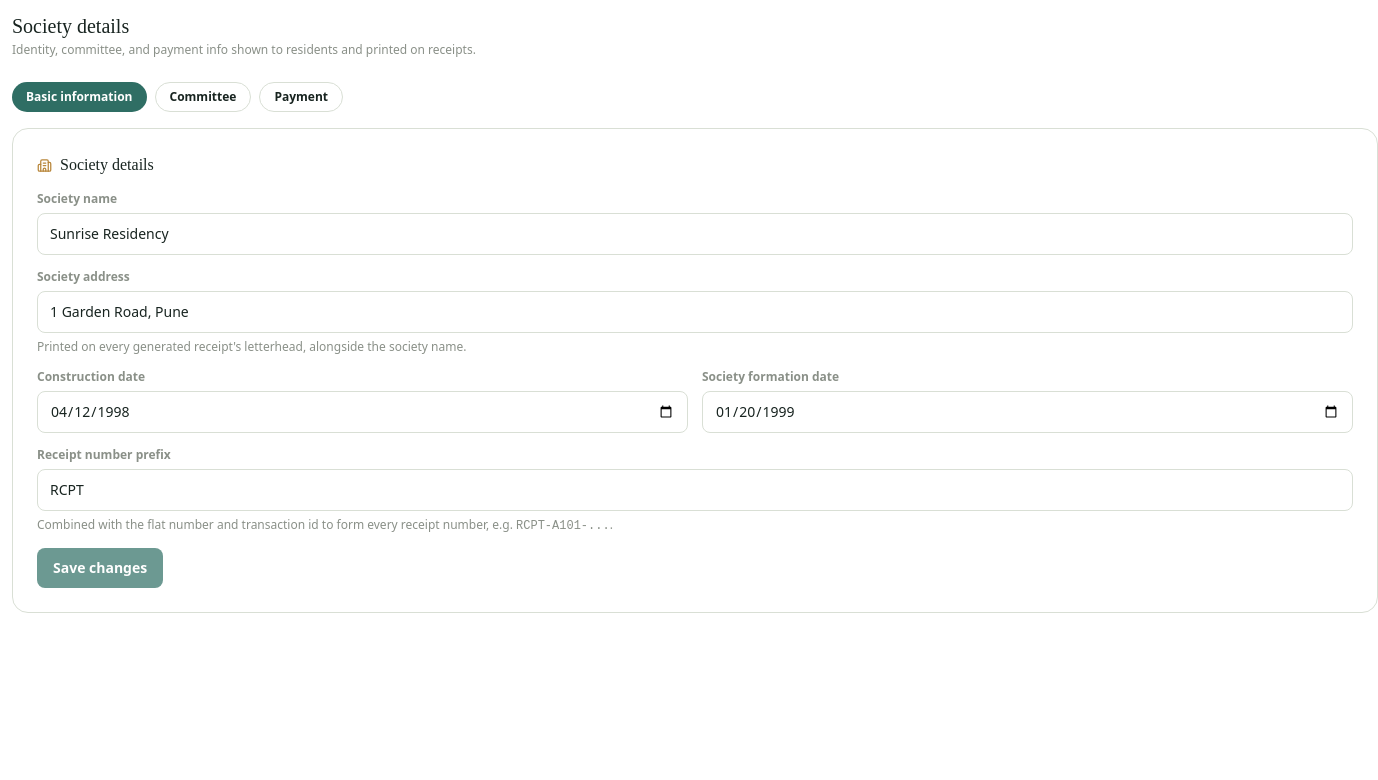
Test: SocietyDetailsPage › Basic information tab › loads the current receipt number prefix and submits an edited value
The width and height of the screenshot is (1378, 780).
In the field labelled "Receipt number prefix": [695, 490] box [37,469,1353,511], type "MAINT"
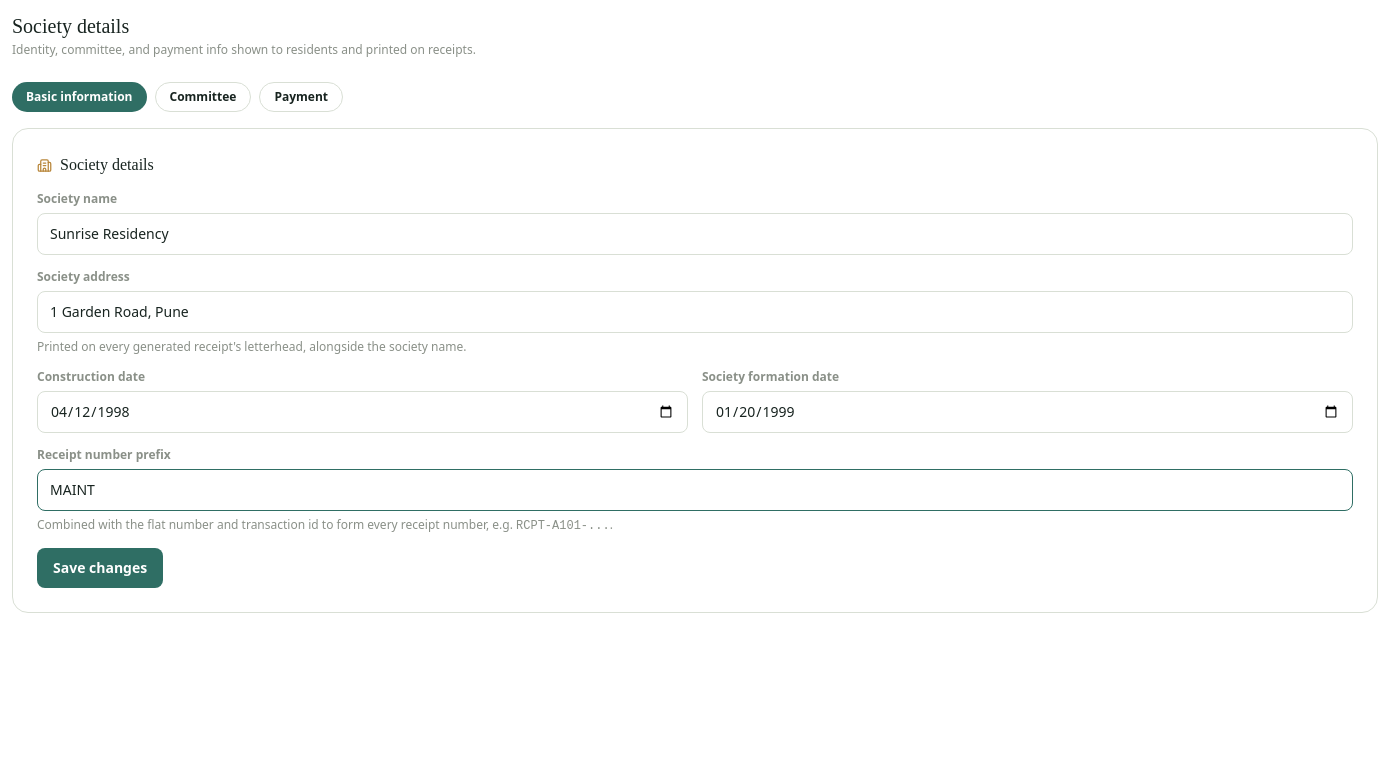
Click the button "Save changes": [100, 568] box [37,548,163,588]
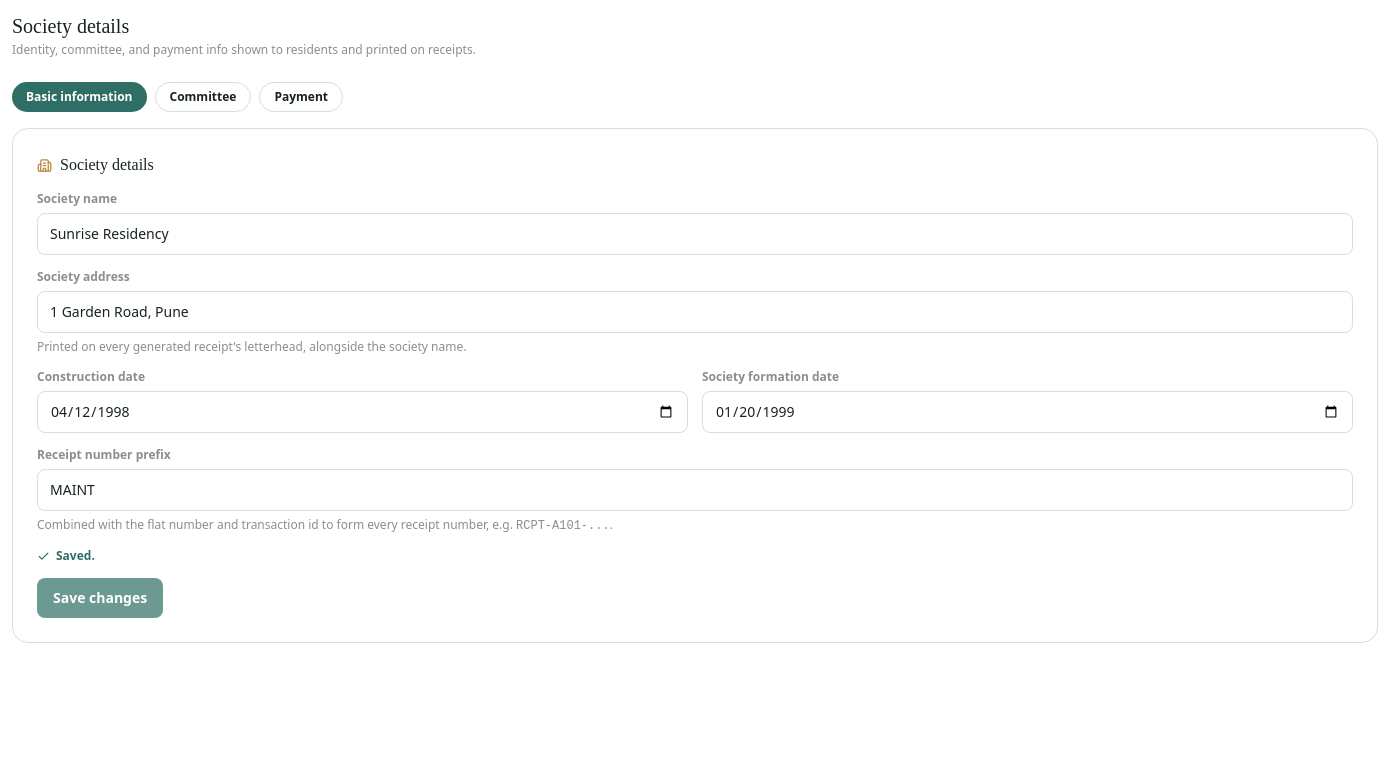
Check: the text "Saved." is shown, box [37,547,95,564]
